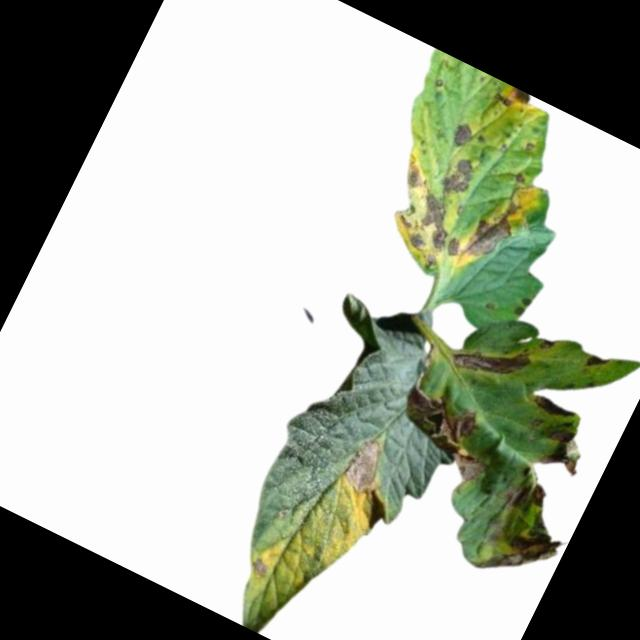Early_blight: (369, 135, 497, 276), (389, 381, 509, 488), (448, 325, 535, 398), (485, 514, 564, 592), (461, 189, 528, 270), (336, 430, 393, 497), (535, 421, 592, 480), (497, 469, 555, 524), (530, 388, 583, 428), (490, 81, 539, 119), (446, 118, 477, 151), (248, 551, 275, 581), (585, 347, 612, 373), (512, 291, 534, 317), (536, 333, 554, 352), (512, 170, 529, 186)
